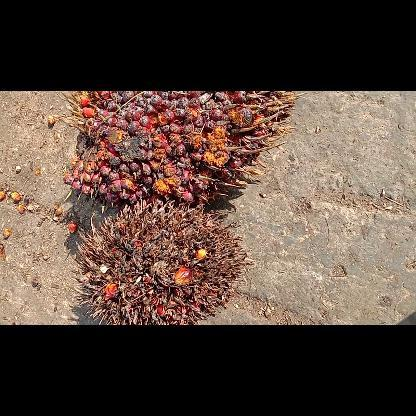TBS masak: (61, 91, 294, 204)
Terlalu masak: (76, 200, 252, 324)
